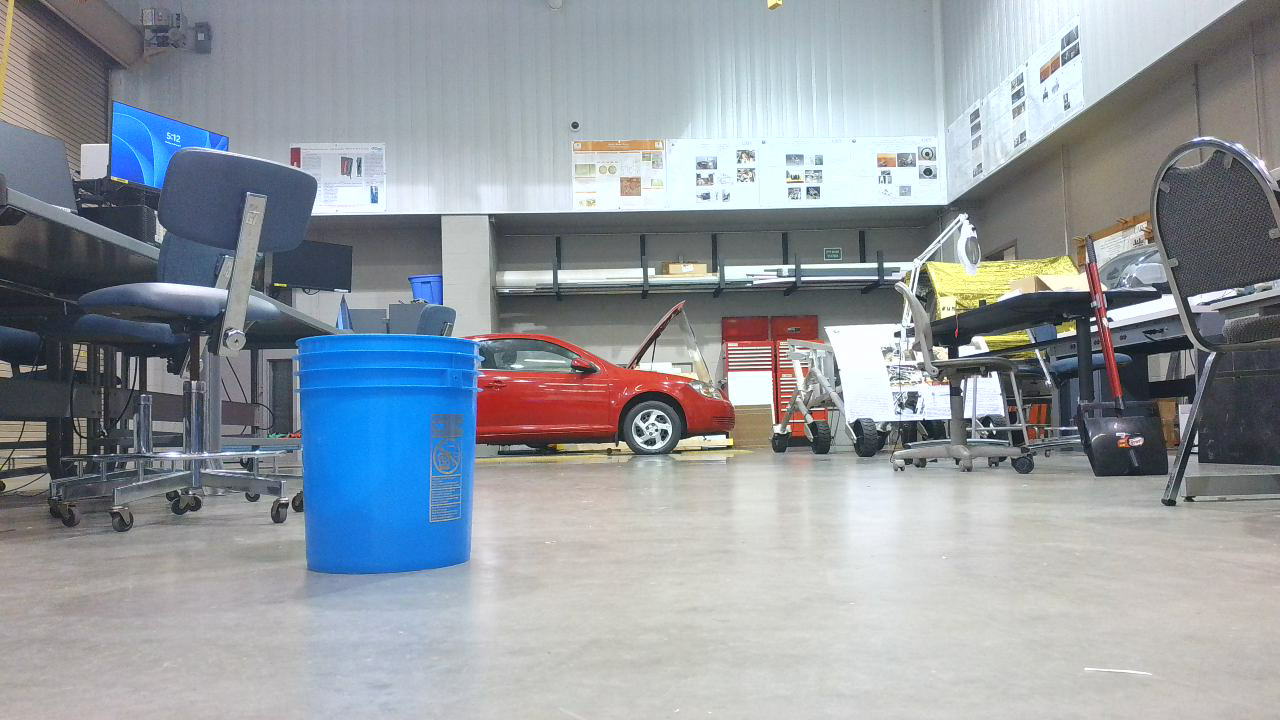blue_bucket: (299, 336, 491, 581)
